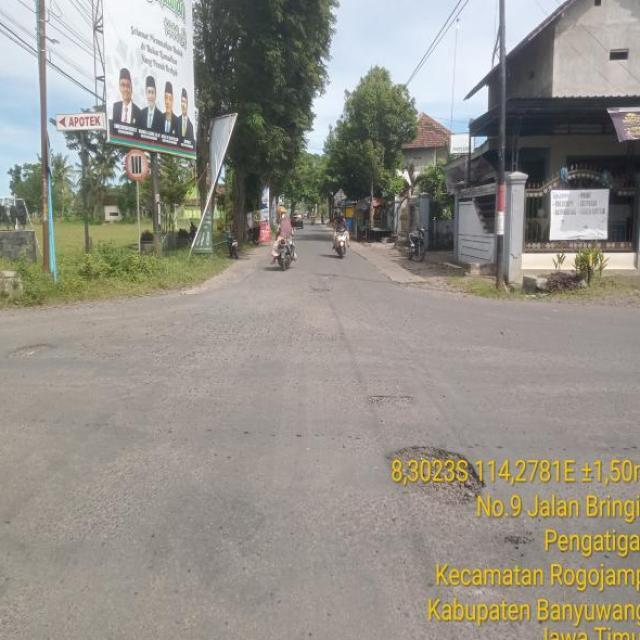Lubang: (390, 446, 486, 517)
